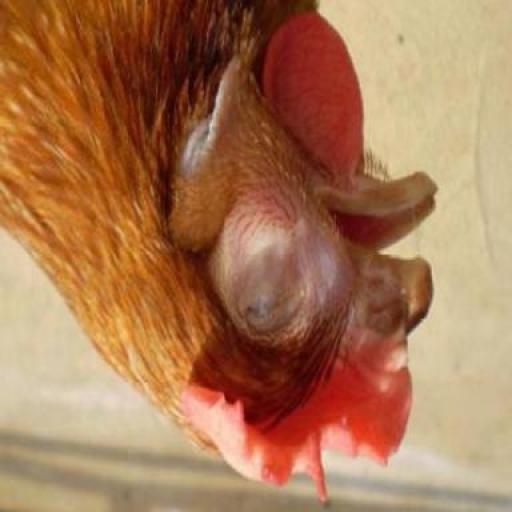disease: (202, 200, 374, 401)
